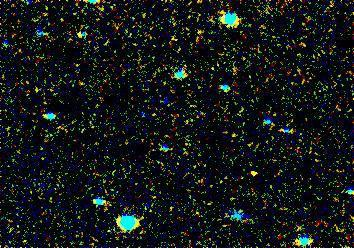star: (238, 159, 268, 189)
